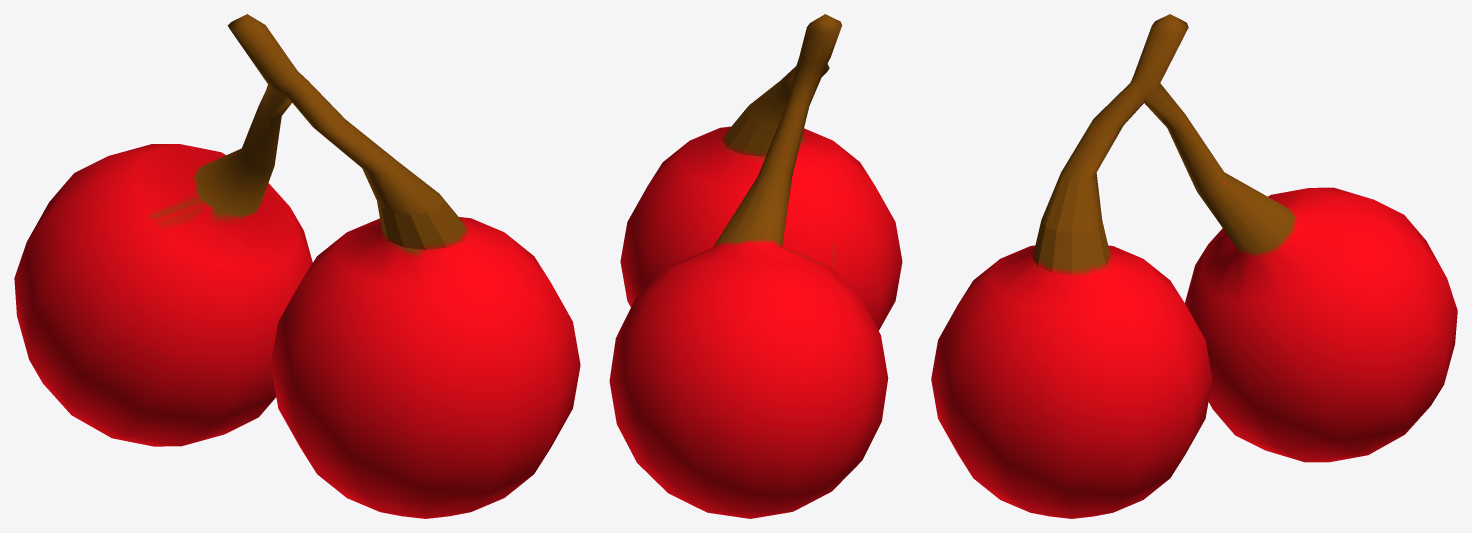
Rendered from Cherry1.obj.
3 views of the same model, side by side, from view 1: azimuth 30°, elevation 25°; view 2: azimuth 150°, elevation 25°; view 3: azimuth 270°, elevation 25° (orthographic). The views are drawn at different scales.
Parts seen in each view (by area): view 1: Mesh_polySurface1; view 2: Mesh_polySurface1; view 3: Mesh_polySurface1.
Part boxes in pixels (<box>): Mesh_polySurface1: <box>14,14,580,518</box>; Mesh_polySurface1: <box>609,14,902,518</box>; Mesh_polySurface1: <box>931,14,1457,518</box>.
Bounding box in the file's own units: 15.85 × 18.78 × 20.48.
